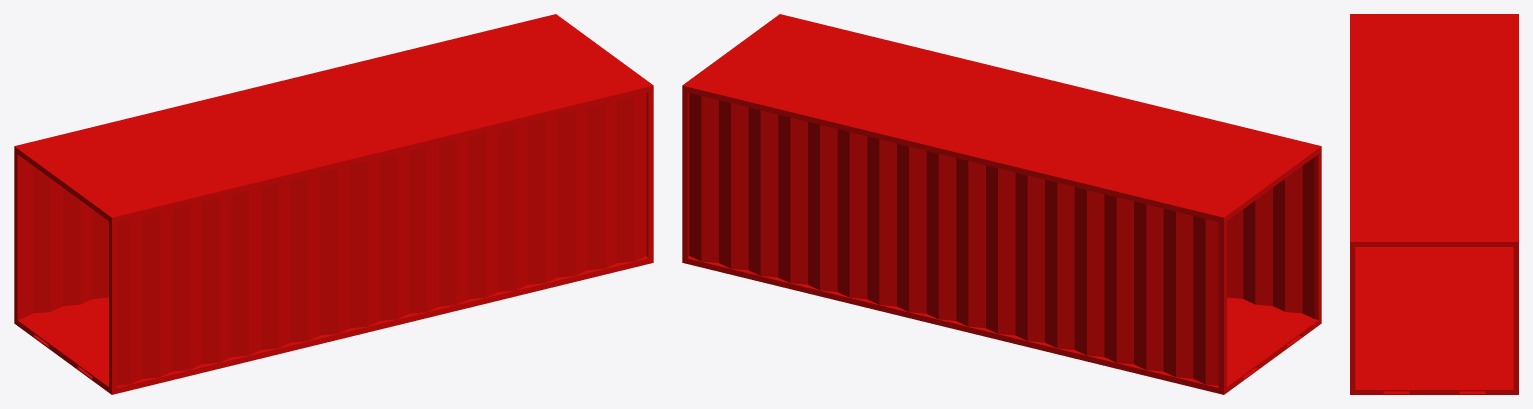
The model's file is Container.fbx.
The picture shows the model from 3 angles, left to right: view 1: azimuth 30°, elevation 25°; view 2: azimuth 150°, elevation 25°; view 3: azimuth 270°, elevation 25°; orthographic projection. The views are drawn at different scales.
Visible parts, largest first — view 1: Container; view 2: Container; view 3: Container.
Part boxes in pixels (x1,y1,x2,y2): Container: [14, 14, 653, 394]; Container: [682, 14, 1321, 394]; Container: [1350, 14, 1518, 394].
Size of the model in its own units: 3200 by 1000 by 1000.
